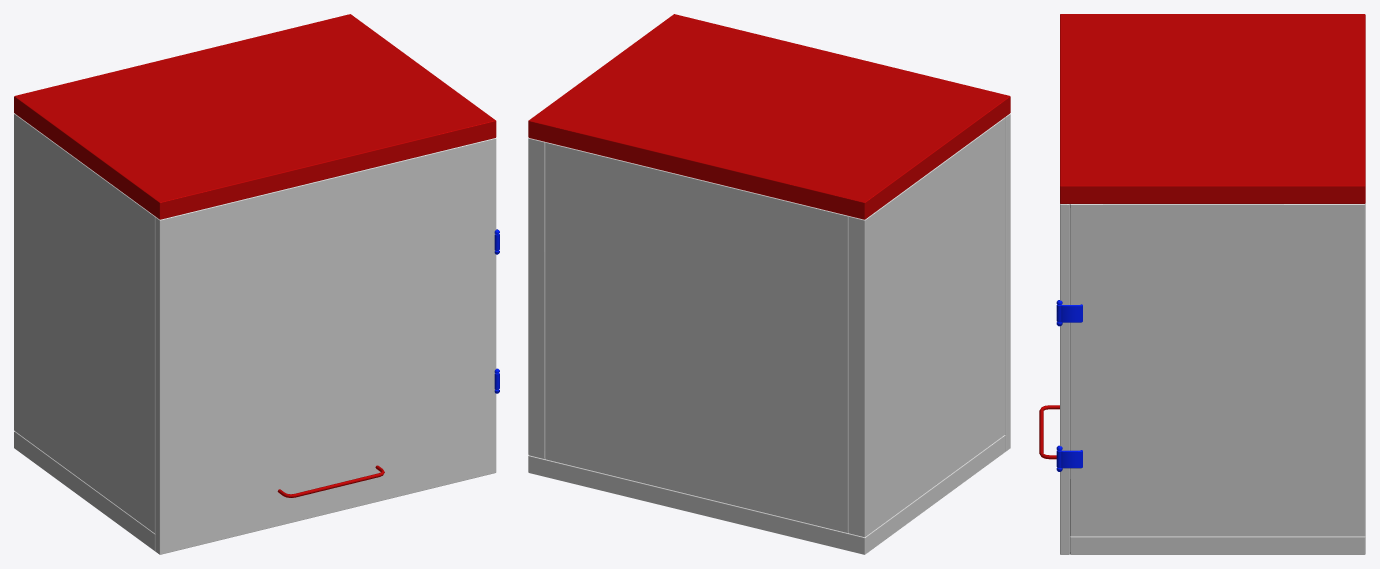
File: Overbench02.fbx
The picture shows the model from 3 angles, left to right: view 1: azimuth 30°, elevation 25°; view 2: azimuth 150°, elevation 25°; view 3: azimuth 270°, elevation 25°; orthographic projection. The views are drawn at different scales.
Parts seen in each view (by area): view 1: Drawer01, Overbench02; view 2: Overbench02, Drawer01; view 3: Overbench02, Drawer01.
Boxes of the visible parts, x1,y1,x2,y2 form: Drawer01: (155, 138, 496, 554); Overbench02: (14, 14, 499, 550); Overbench02: (528, 14, 1010, 554); Drawer01: (1005, 114, 1010, 451); Overbench02: (1056, 14, 1365, 554); Drawer01: (1039, 204, 1069, 554).
Bounding box in the file's own units: 50.35 × 40 × 50.
